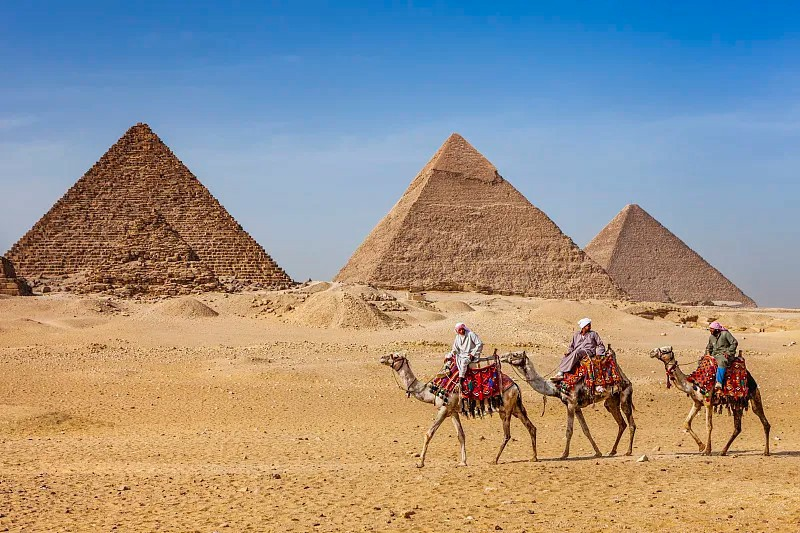Pyramid: (330, 133, 634, 301), (3, 123, 296, 291), (584, 203, 760, 309), (81, 212, 228, 298)
